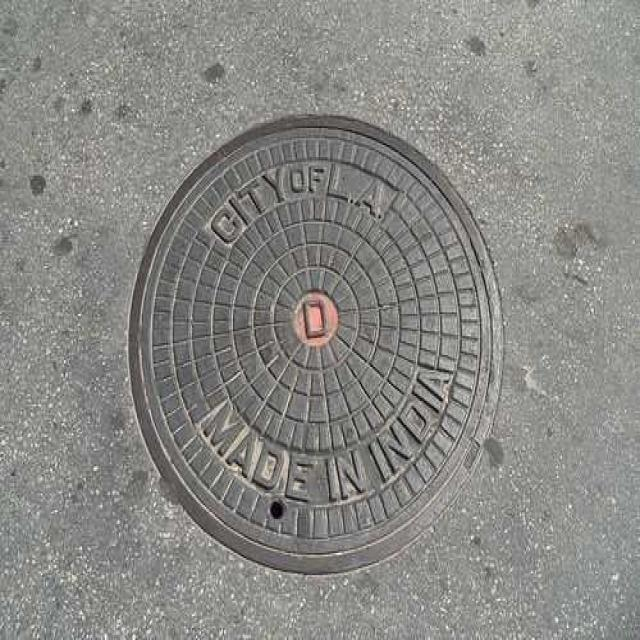manhole: (129, 117, 502, 572)
